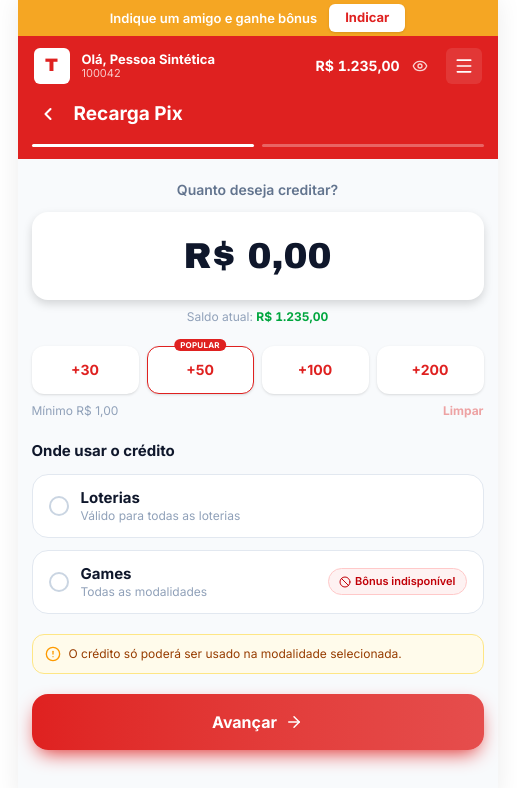
Test: RechargePage: valor e destino › ocultar saldo esconde a barra e o "Saldo atual"
Click the button named "Ocultar saldo" at (420, 66), box [406,52,434,80]
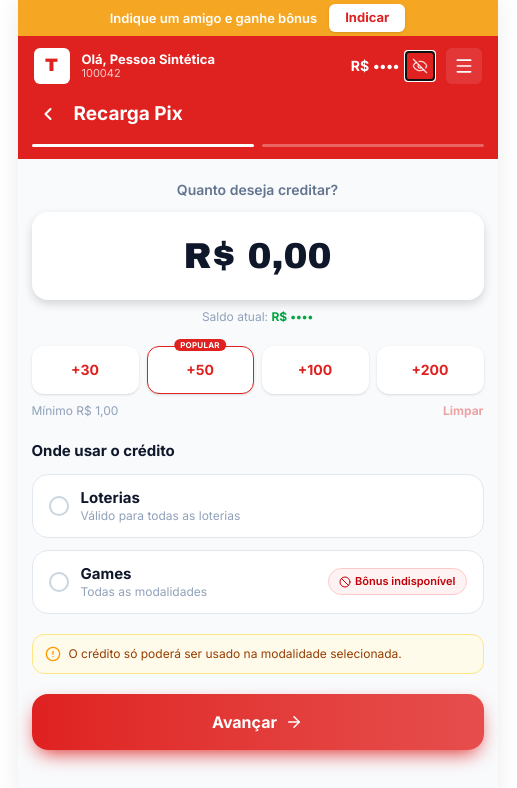
Expected: the text "R$ ••••" is shown 2 times, [351,55,400,76]; [271,308,313,324]
Result: the text "1.235,00" is gone
